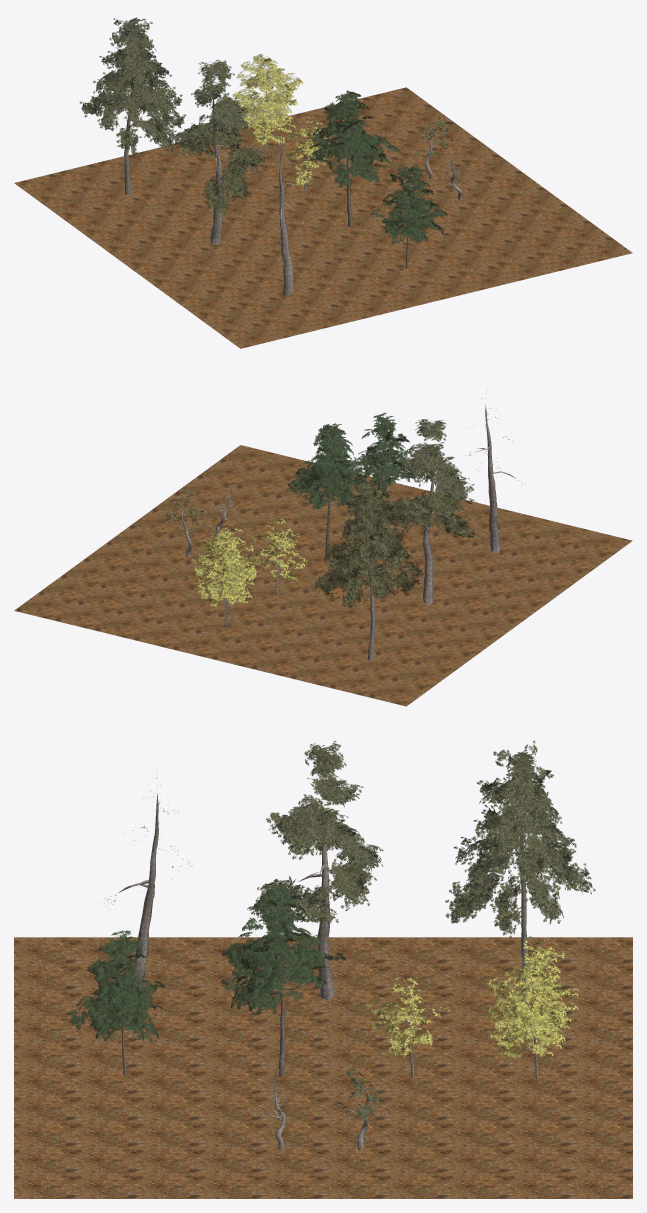
Rendered from mountain_trees.glb.
3 views of the same model, one above another, from view 1: azimuth 30°, elevation 25°; view 2: azimuth 150°, elevation 25°; view 3: azimuth 270°, elevation 25° (orthographic). The views are drawn at different scales.
Parts seen in each view (by area): view 1: Plane_17, foliage.002_12, foliage.001_9, foliage.004_4, foliage.006_16, foliage.003_2, foliage.005_14, structure.005_10, structure.002_8; view 2: Plane_17, foliage.002_12, foliage.001_9, foliage.004_4, foliage.006_16, foliage.003_2, foliage.005_14, structure.005_10, structure.002_8; view 3: Plane_17, foliage.002_12, foliage.001_9, foliage.004_4, foliage.006_16, foliage.003_2, foliage.005_14, structure.005_10, structure.002_8, foliage_7.
Part boxes in pixels (box(x1,y1,x2,y2)): Plane_17: box(14, 87, 632, 348); foliage.002_12: box(79, 17, 185, 160); foliage.001_9: box(168, 60, 265, 215); foliage.004_4: box(309, 90, 400, 188); foliage.006_16: box(232, 54, 302, 146); foliage.003_2: box(370, 164, 447, 244); foliage.005_14: box(286, 117, 328, 185); structure.005_10: box(259, 110, 309, 295); structure.002_8: box(210, 78, 235, 244); Plane_17: box(14, 445, 632, 706); foliage.002_12: box(314, 478, 422, 608); foliage.001_9: box(383, 419, 478, 538); foliage.004_4: box(287, 423, 373, 509); foliage.006_16: box(190, 524, 258, 607); foliage.003_2: box(347, 412, 422, 492); foliage.005_14: box(249, 518, 307, 580); structure.005_10: box(466, 393, 527, 552); structure.002_8: box(423, 452, 446, 605); Plane_17: box(14, 937, 632, 1198); foliage.002_12: box(445, 740, 595, 939); foliage.001_9: box(251, 741, 383, 924); foliage.004_4: box(220, 884, 346, 1014); foliage.006_16: box(486, 936, 579, 1059); foliage.003_2: box(70, 930, 165, 1042); foliage.005_14: box(364, 976, 449, 1058); structure.005_10: box(104, 771, 190, 992); structure.002_8: box(284, 800, 352, 1000); foliage_7: box(333, 1068, 384, 1121).
Bounding box in the file's own units: 120 × 53.79 × 120.
8 materials, 8 textured.
